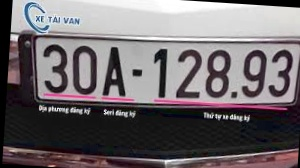Bien-so: (33, 26, 298, 111)
